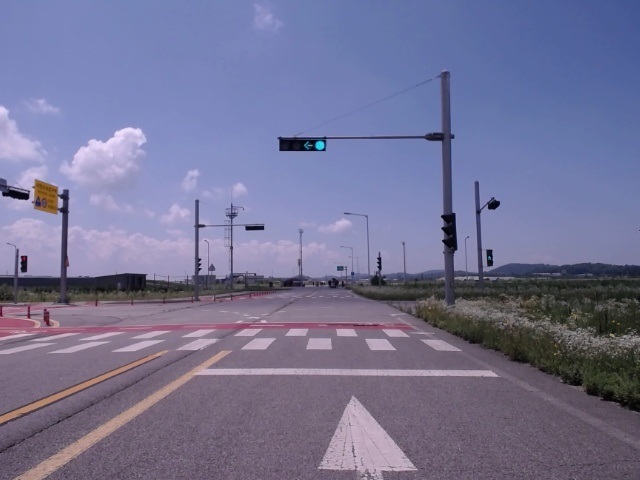all_green_4: (277, 136, 330, 150)
